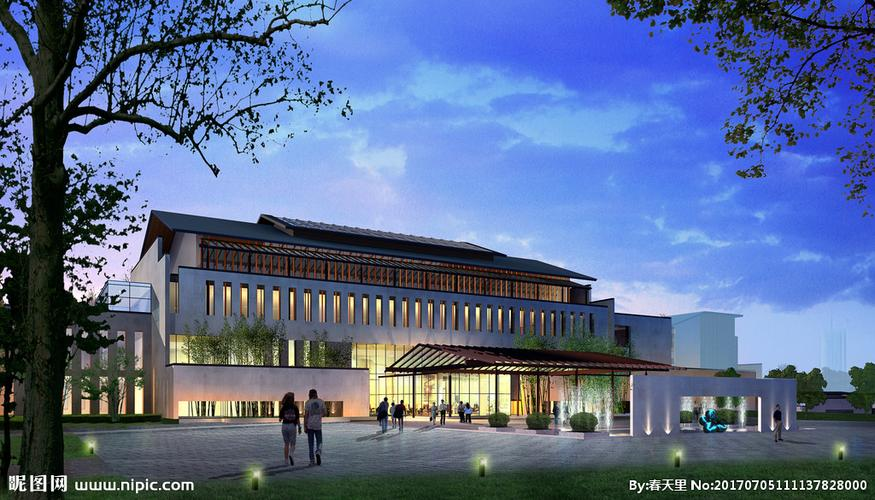buildings: (64, 212, 710, 422)
sky_cloud: (143, 73, 781, 234)
